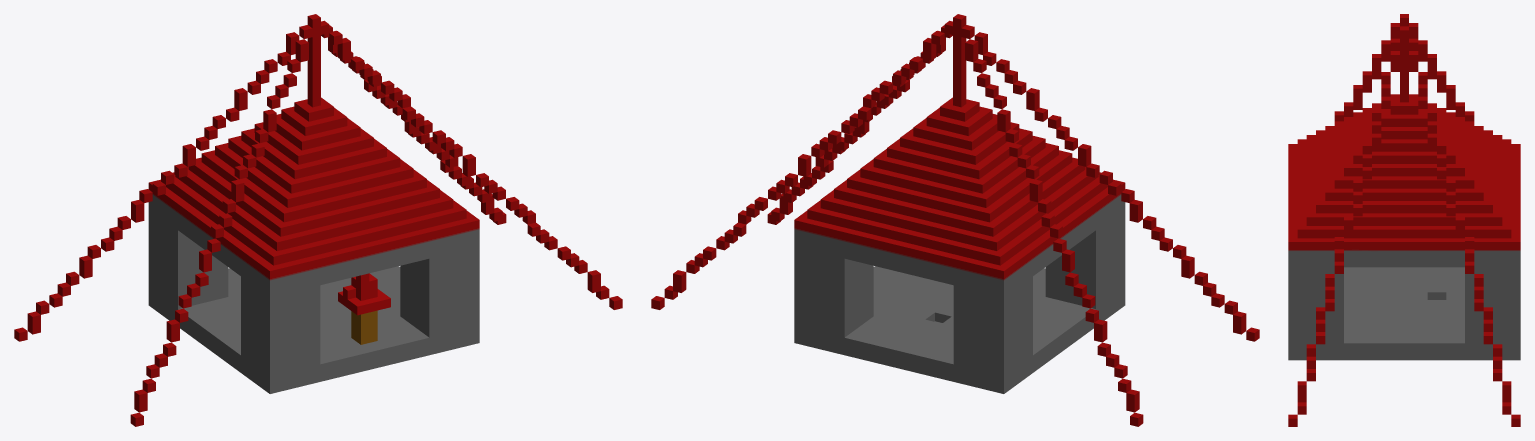
File: TwentyTwoModelRoof.fbx
3 views of the same model, side by side, from view 1: azimuth 30°, elevation 25°; view 2: azimuth 150°, elevation 25°; view 3: azimuth 270°, elevation 25° (orthographic). The views are drawn at different scales.
Visible parts, largest first — view 1: Box; view 2: Box; view 3: Box.
Boxes of the visible parts, box(x1,y1,x2,y2) form: Box: box(14, 14, 622, 426); Box: box(651, 14, 1259, 426); Box: box(1288, 14, 1520, 426).
Size of the model in its own units: 58 by 35 by 25.
1 material, 1 textured.
